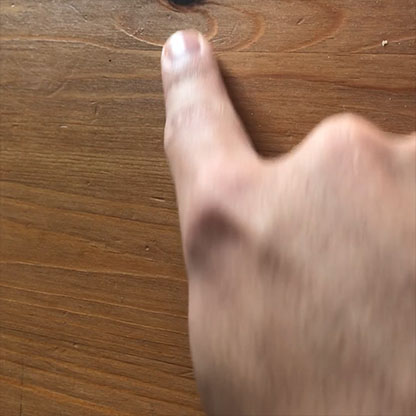fingertip: (149, 21, 228, 83)
